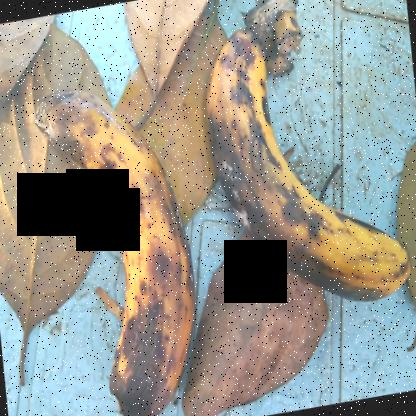rotten: (189, 16, 413, 320), (20, 76, 204, 415)
